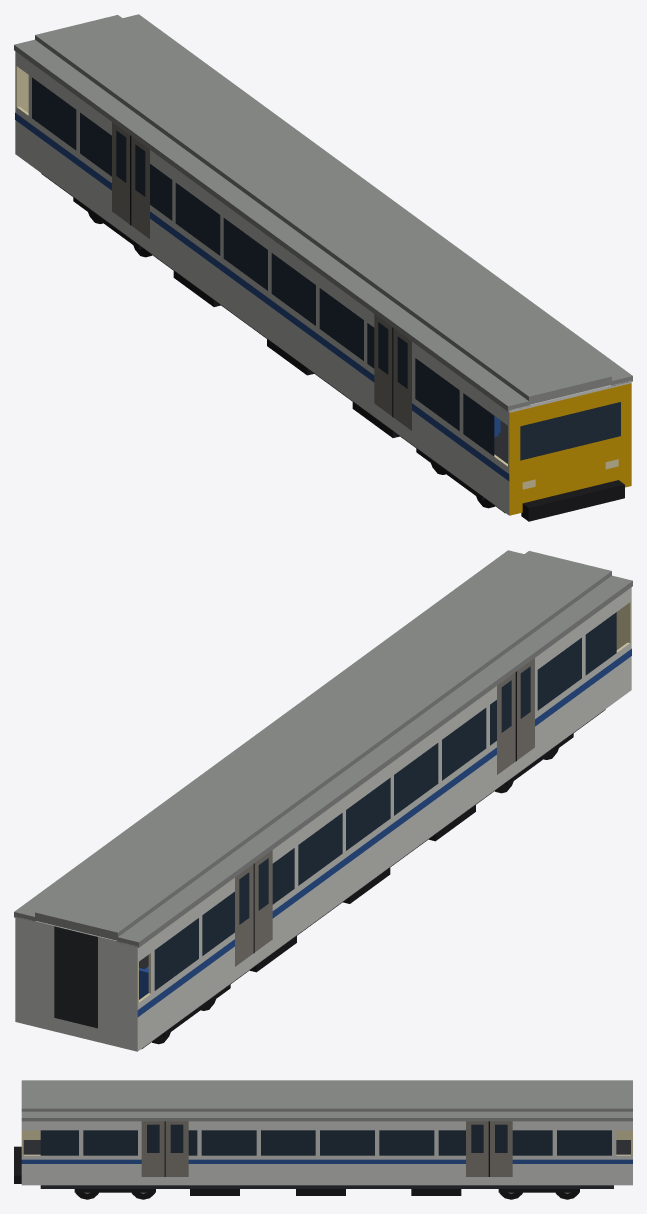
Rendered from veh_train-carriage.glb.
3 views of the same model, one above another, from view 1: azimuth 30°, elevation 25°; view 2: azimuth 150°, elevation 25°; view 3: azimuth 270°, elevation 25° (orthographic). The views are drawn at different scales.
Parts seen in each view (by area): view 1: body; view 2: body; view 3: body.
Part boxes in pixels (bbox=[...]): body: bbox=[14, 14, 632, 521]; body: bbox=[14, 550, 632, 1051]; body: bbox=[14, 1080, 632, 1199].
Size of the model in its own units: 2.86 by 3.3 by 19.85.
